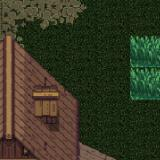Obstacle: (0, 99, 130, 160)
Slow: (130, 36, 160, 100)
